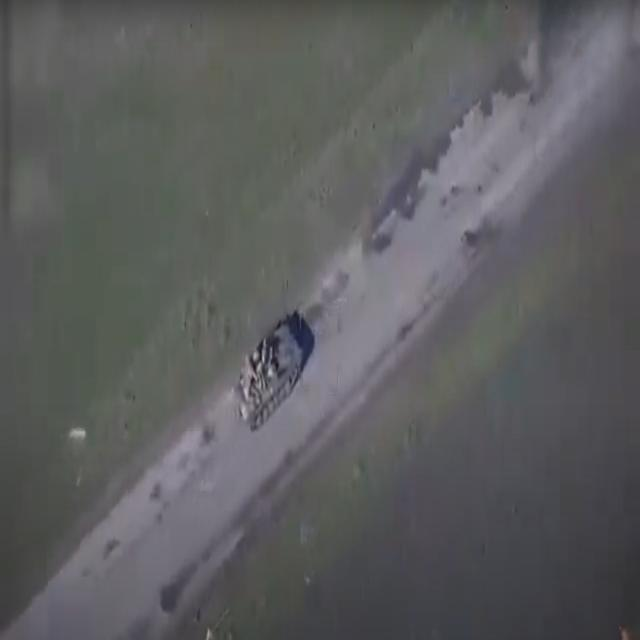AIFV: (231, 314, 306, 438)
